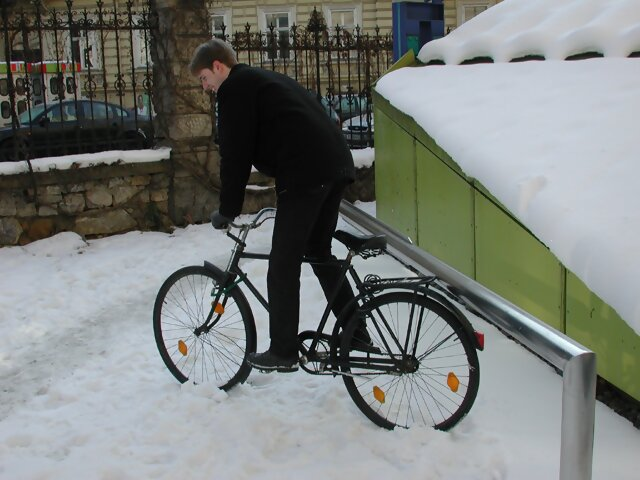person: (187, 32, 373, 379)
